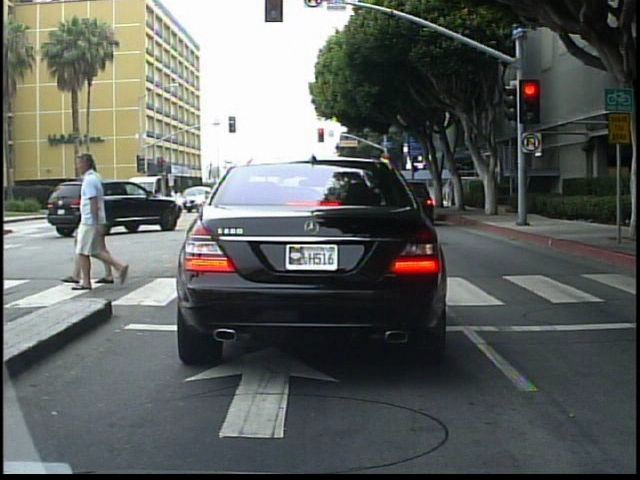person: (76, 150, 130, 290), (73, 149, 103, 290), (443, 176, 456, 211)
